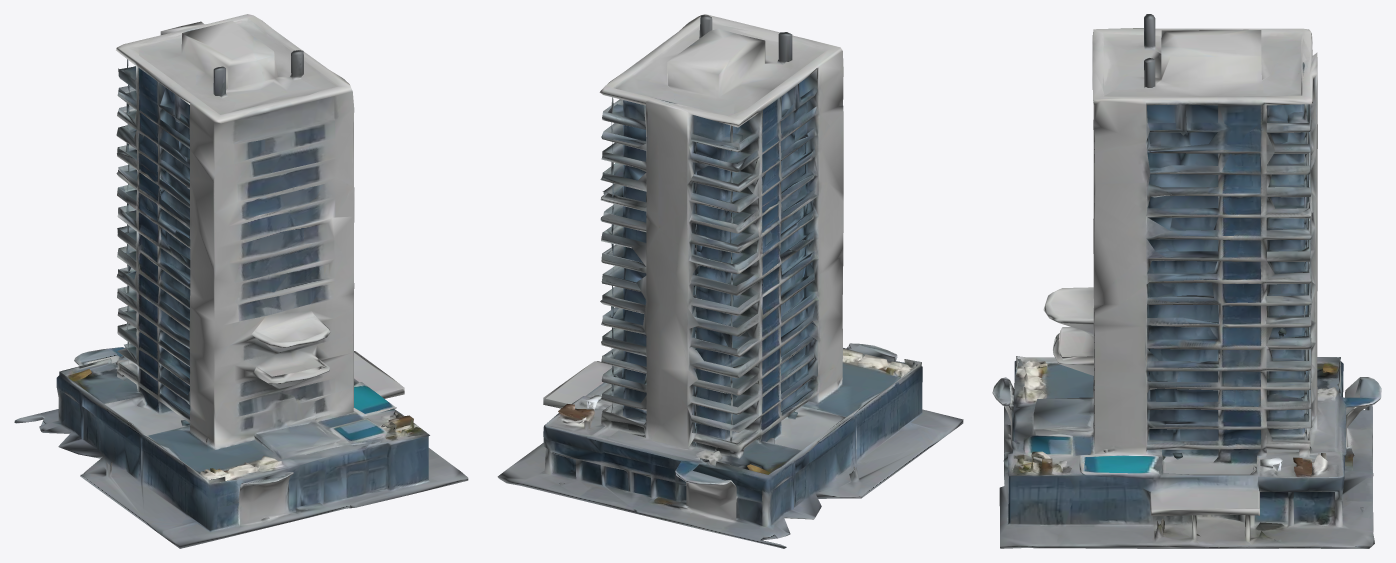
File: hotel_tower.glb
3 views of the same model, side by side, from view 1: azimuth 30°, elevation 25°; view 2: azimuth 150°, elevation 25°; view 3: azimuth 270°, elevation 25° (orthographic). The views are drawn at different scales.
Parts seen in each view (by area): view 1: tripo_node_3f5851c3-fc73-4ea5-b2b3-2e723832028f; view 2: tripo_node_3f5851c3-fc73-4ea5-b2b3-2e723832028f; view 3: tripo_node_3f5851c3-fc73-4ea5-b2b3-2e723832028f.
Boxes of the visible parts, left/top/right/bottom form: tripo_node_3f5851c3-fc73-4ea5-b2b3-2e723832028f: left=14, top=14, right=468, bottom=548; tripo_node_3f5851c3-fc73-4ea5-b2b3-2e723832028f: left=497, top=14, right=963, bottom=548; tripo_node_3f5851c3-fc73-4ea5-b2b3-2e723832028f: left=992, top=14, right=1381, bottom=548.
Bounding box in the file's own units: 0.76 × 1 × 0.8058.
1 material, 1 textured.
